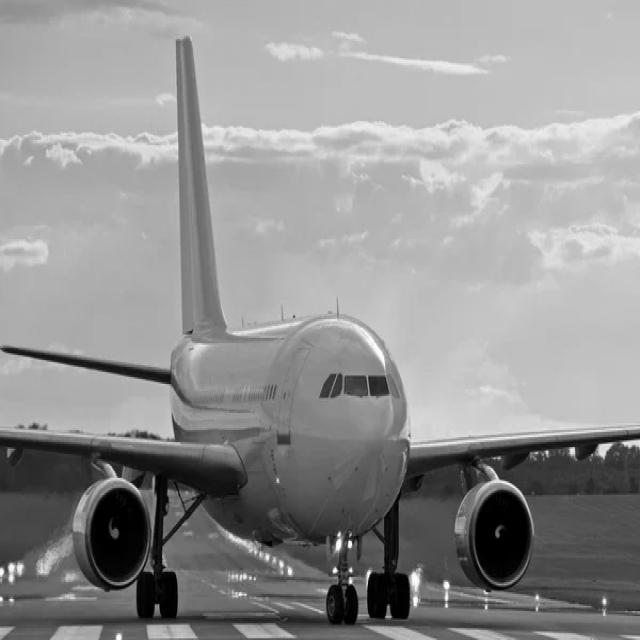Aircraft: (2, 40, 596, 614)
